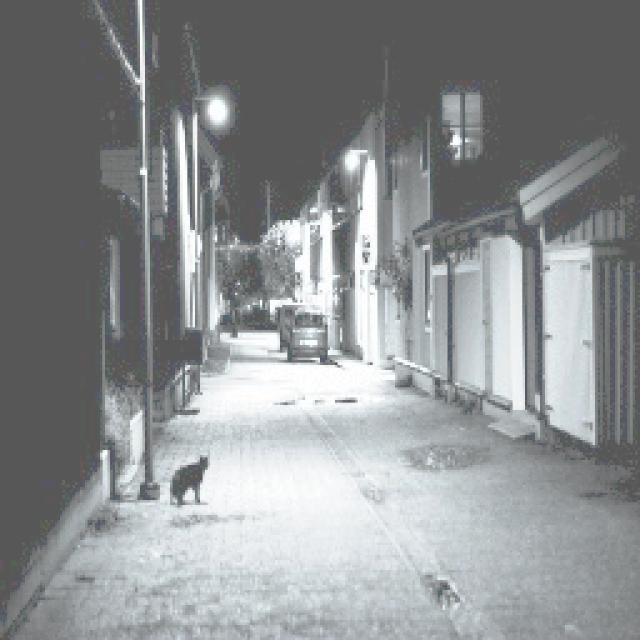cat: (154, 442, 222, 519)
